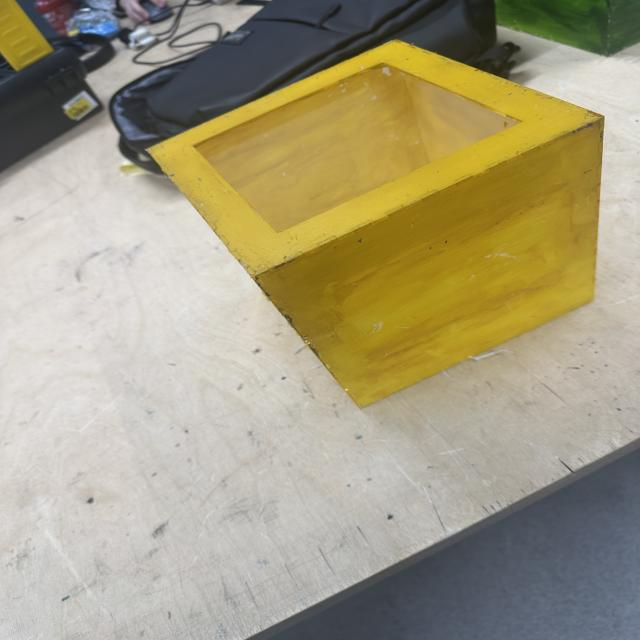yellow_bin: (147, 38, 603, 410)
